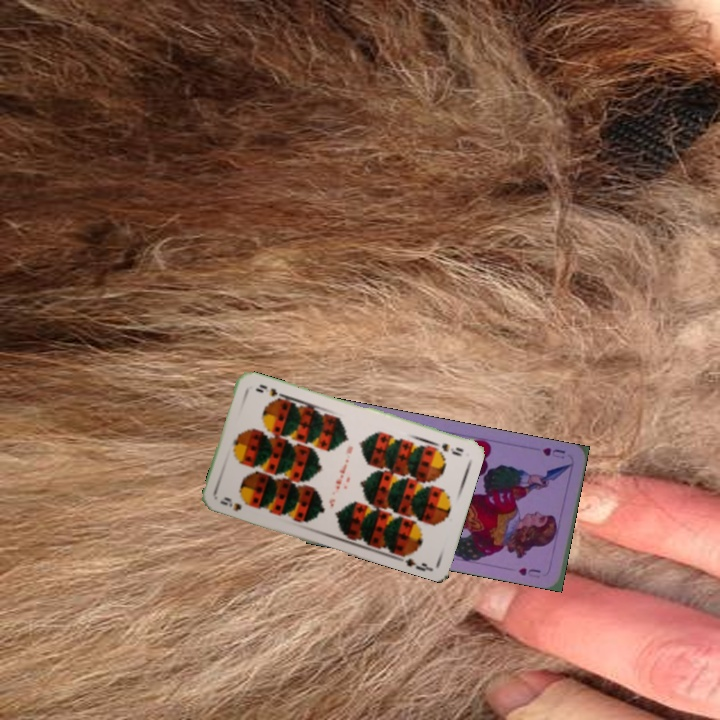HU: (538, 443, 568, 461)
S9: (216, 493, 244, 514), (438, 439, 466, 458)
